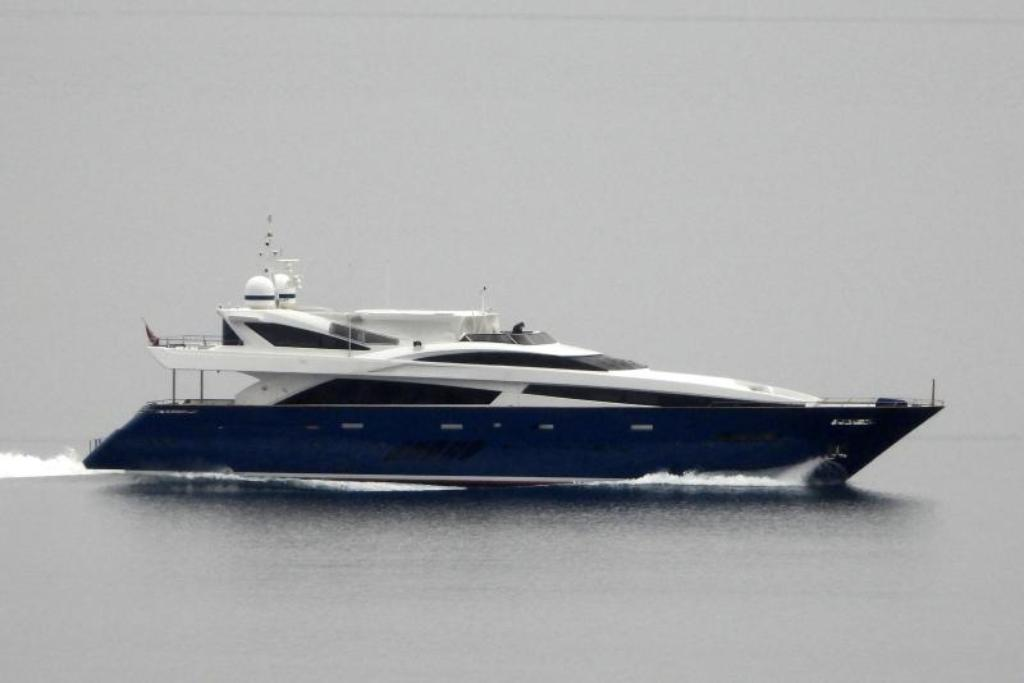PassengerShip: (76, 210, 952, 506)
